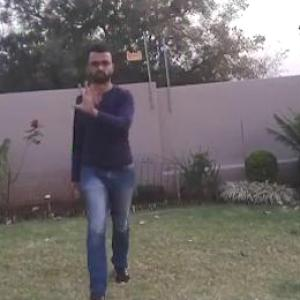follow_hand: (68, 77, 103, 118)
